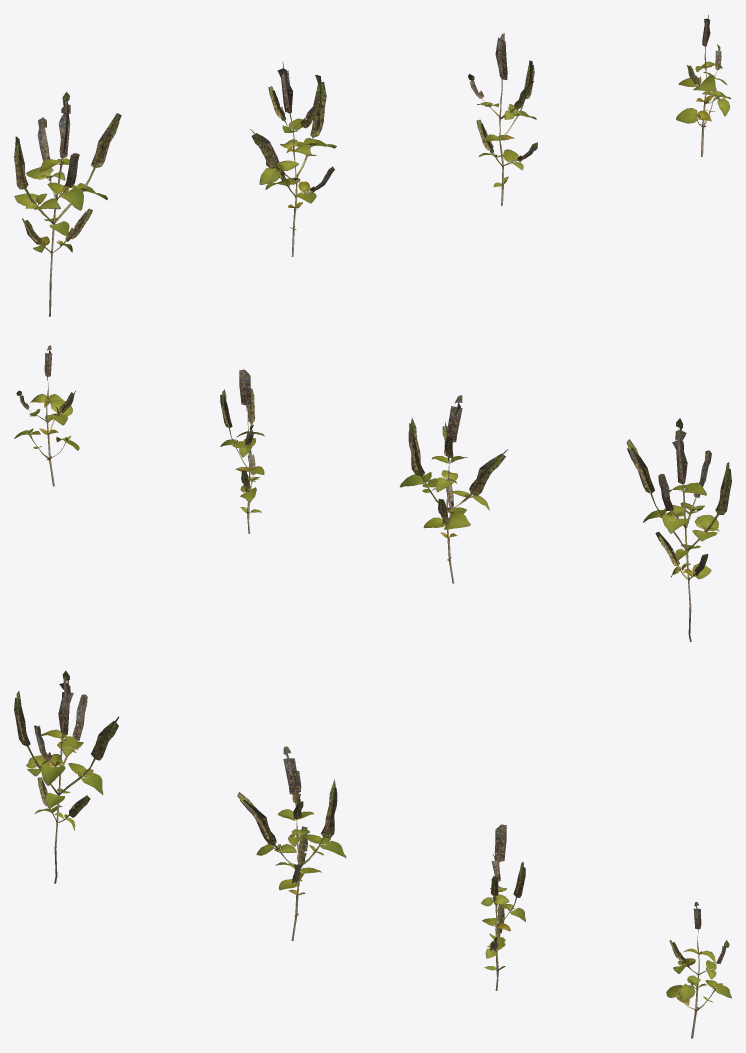
Rendered from shrub_03.glb.
The picture shows the model from 3 angles, top to bottom: view 1: azimuth 30°, elevation 25°; view 2: azimuth 150°, elevation 25°; view 3: azimuth 330°, elevation 25°; orthographic projection. The views are drawn at different scales.
Visible parts, largest first — view 1: shrub_03_a, shrub_03_b, shrub_03_c, shrub_03_d; view 2: shrub_03_a, shrub_03_b, shrub_03_c, shrub_03_d; view 3: shrub_03_a, shrub_03_b, shrub_03_c, shrub_03_d.
Part boxes in pixels (x1,y1,x2,y2): shrub_03_a: (14, 91, 121, 316); shrub_03_b: (250, 62, 336, 256); shrub_03_c: (468, 33, 537, 205); shrub_03_d: (676, 15, 731, 156); shrub_03_a: (626, 418, 731, 641); shrub_03_b: (400, 395, 507, 583); shrub_03_c: (220, 369, 264, 533); shrub_03_d: (14, 345, 79, 486); shrub_03_a: (14, 670, 118, 883); shrub_03_b: (237, 746, 346, 940); shrub_03_c: (481, 824, 525, 990); shrub_03_d: (666, 902, 731, 1038).
Bounding box in the file's own units: 1.37 × 0.4028 × 0.1512.
1 material, 1 textured.
